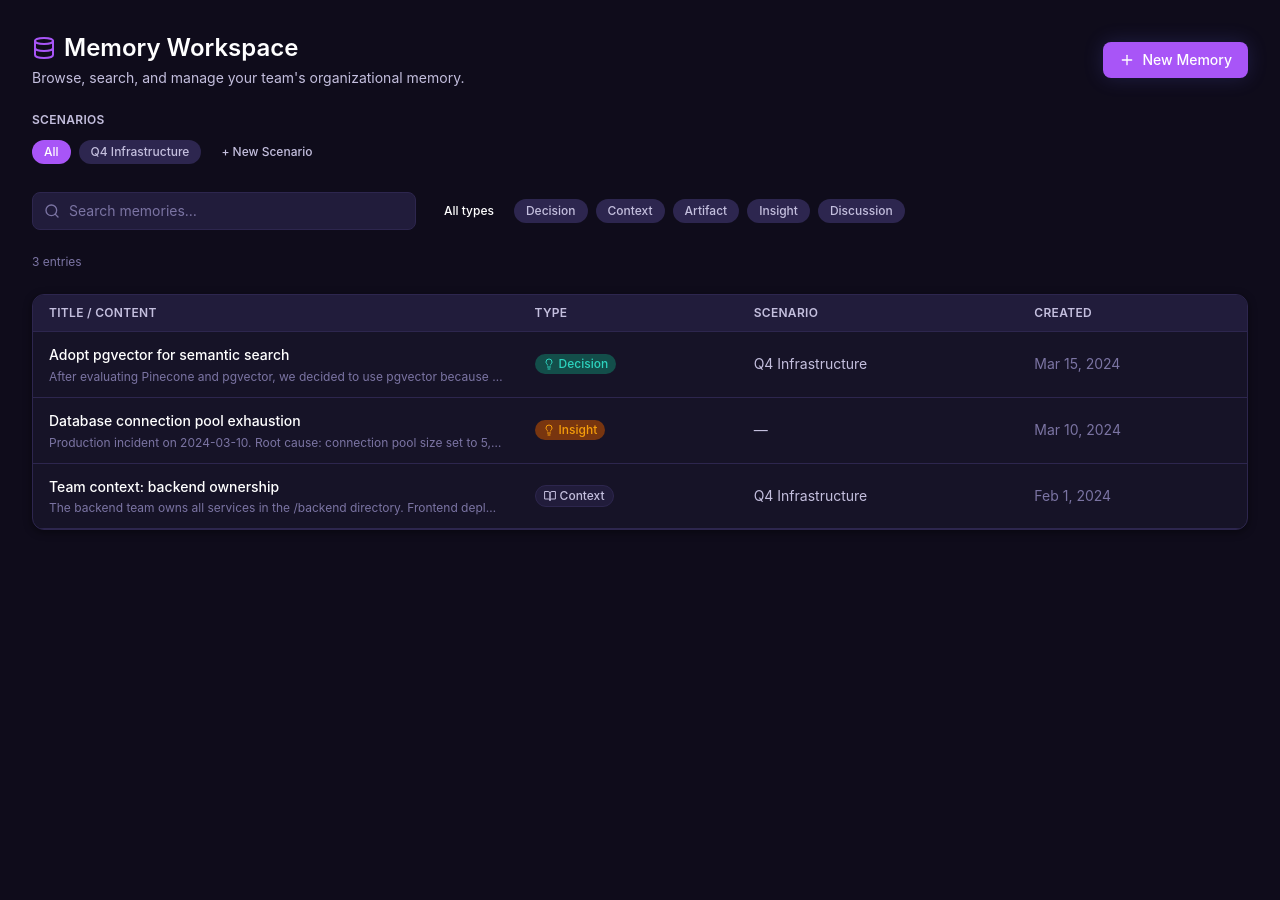
Test: MemoryPage — create scenario dialog › opens scenario dialog from ScenarioList
Click the button "+ New Scenario" at (267, 152), box [209,136,324,168]
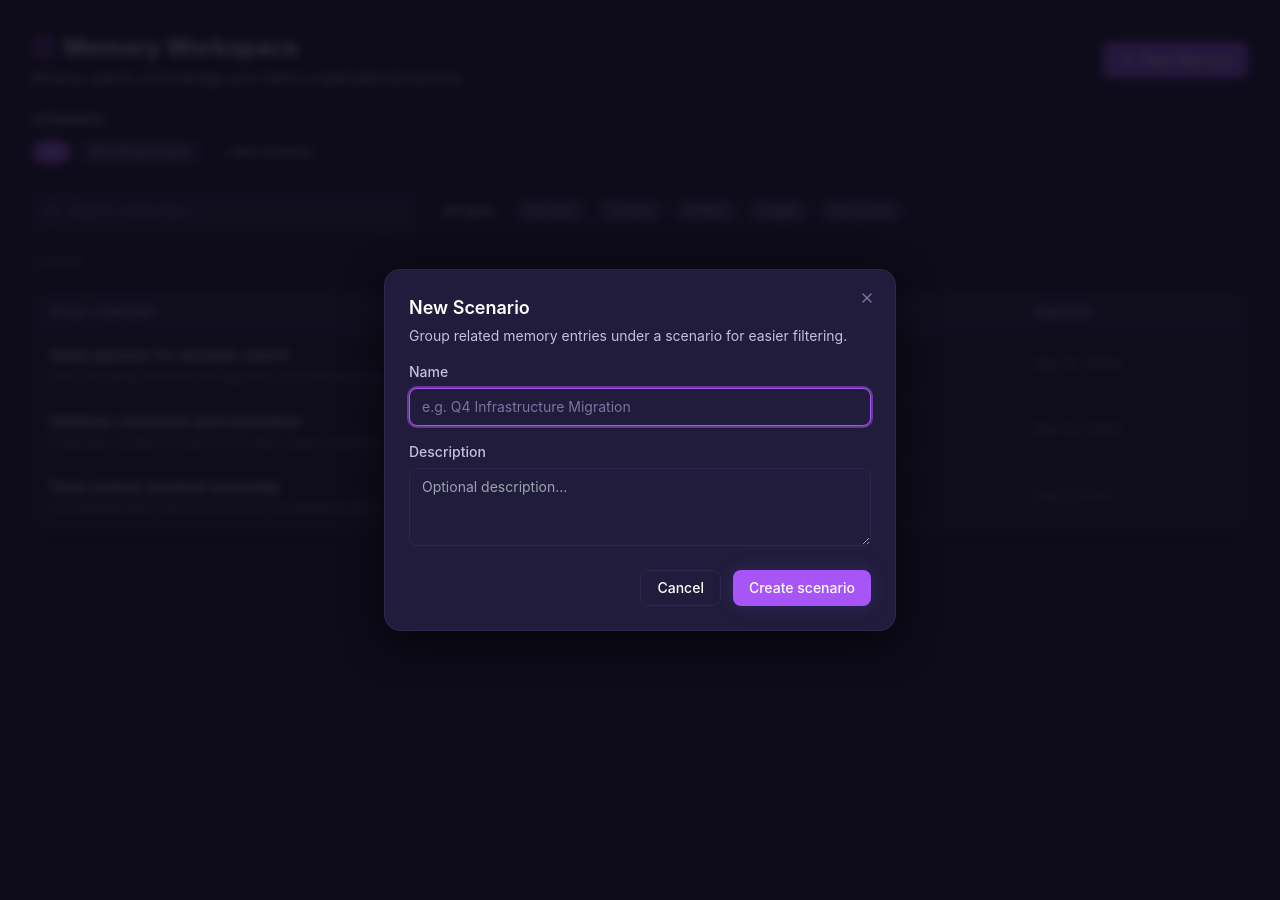
Now the heading "New Scenario" is shown, box [409,297,530,318]
